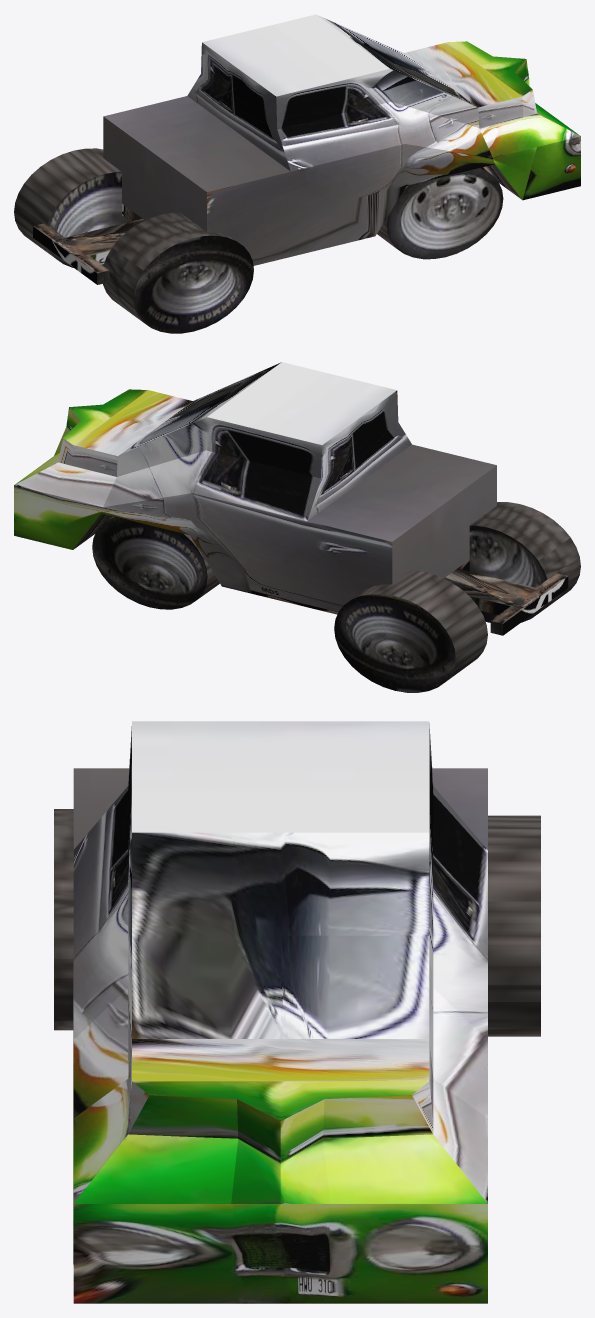
The model's file is epatraktor.glb.
3 views of the same model, one above another, from view 1: azimuth 30°, elevation 25°; view 2: azimuth 150°, elevation 25°; view 3: azimuth 270°, elevation 25° (orthographic). The views are drawn at different scales.
Parts seen in each view (by area): view 1: Cube; view 2: Cube; view 3: Cube.
Boxes of the visible parts, x1,y1,x2,y2 form: Cube: (14,14,580,333); Cube: (14,362,580,692); Cube: (54,721,540,1303).
Bounding box in the file's own units: 269 × 110 × 122.
1 material, 1 textured.
